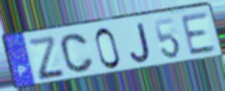0: (94, 26, 122, 71)
5: (152, 16, 182, 61)
C: (59, 32, 96, 75)
E: (179, 10, 219, 58)
J: (128, 21, 152, 65)
Z: (26, 34, 67, 82)
